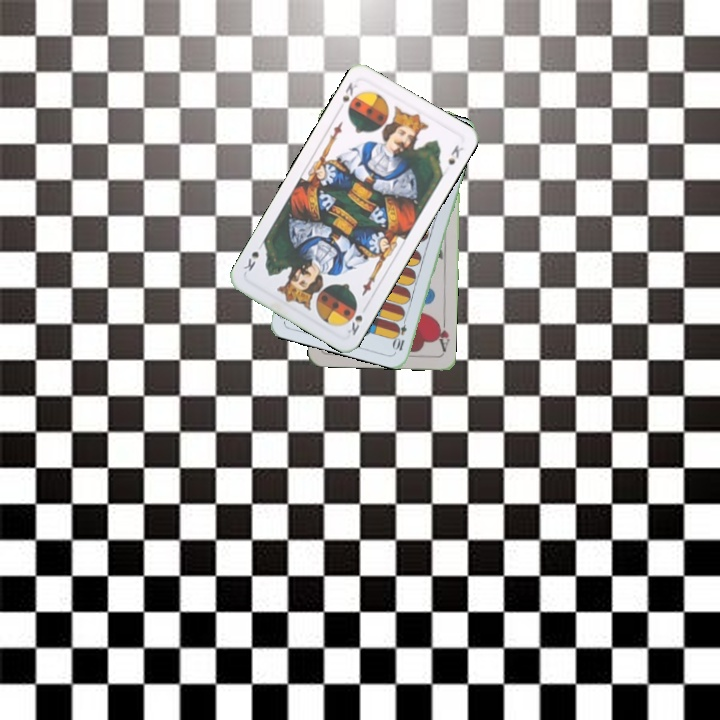E10: (390, 313, 410, 353)
HA: (432, 314, 452, 354)
SK: (338, 78, 363, 116), (343, 304, 365, 338)
